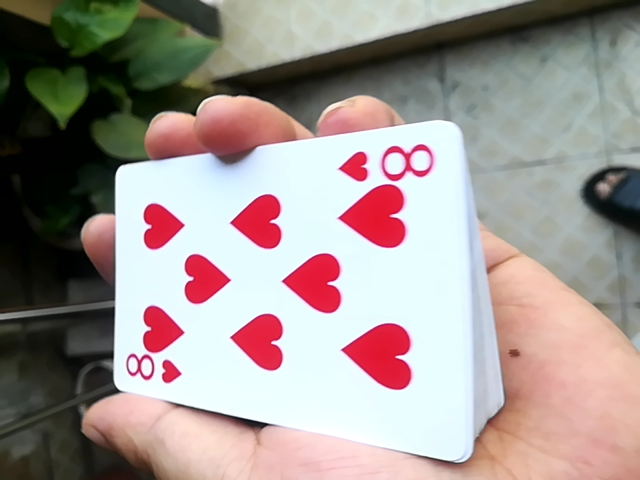hx 8: (106, 108, 459, 450)
